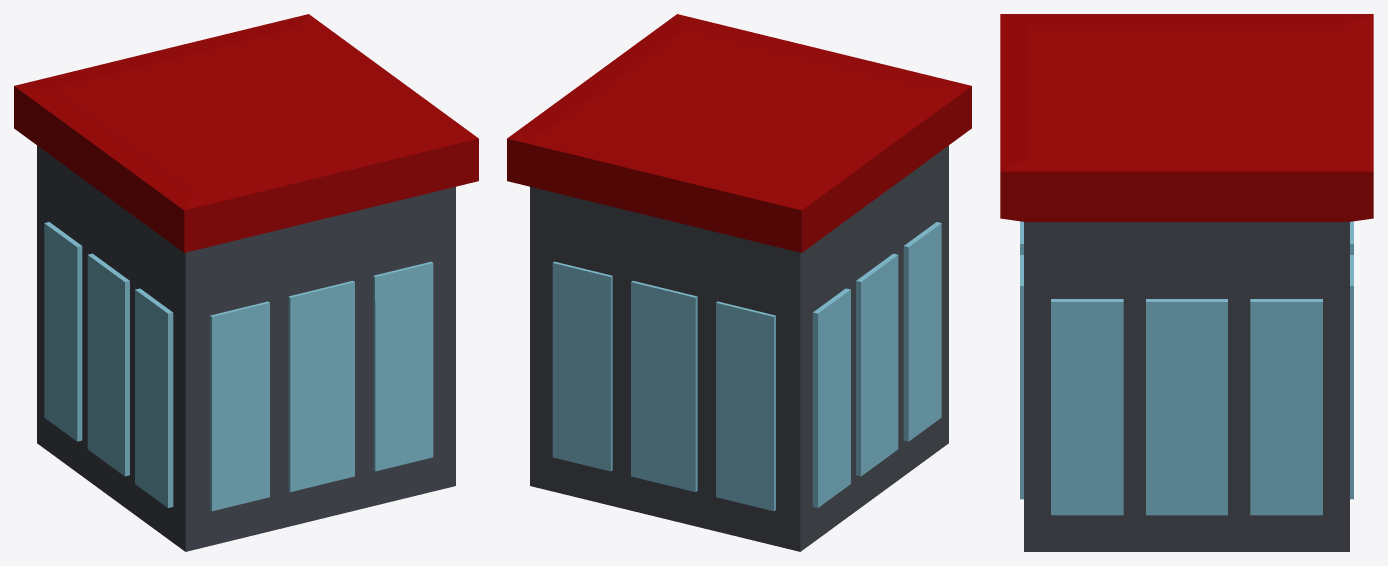
Rendered from TowerFinal.fbx.
The picture shows the model from 3 angles, left to right: view 1: azimuth 30°, elevation 25°; view 2: azimuth 150°, elevation 25°; view 3: azimuth 270°, elevation 25°; orthographic projection. The views are drawn at different scales.
Parts seen in each view (by area): view 1: Cube.000; view 2: Cube.000; view 3: Cube.000.
Boxes of the visible parts, <box> form: Cube.000: <box>14,14,478,551</box>; Cube.000: <box>507,14,971,551</box>; Cube.000: <box>1000,14,1373,551</box>.
Bounding box in the file's own units: 87.17 × 100 × 87.16.
